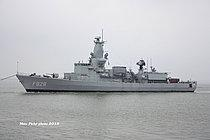MIL_Ship: (14, 31, 198, 93)
